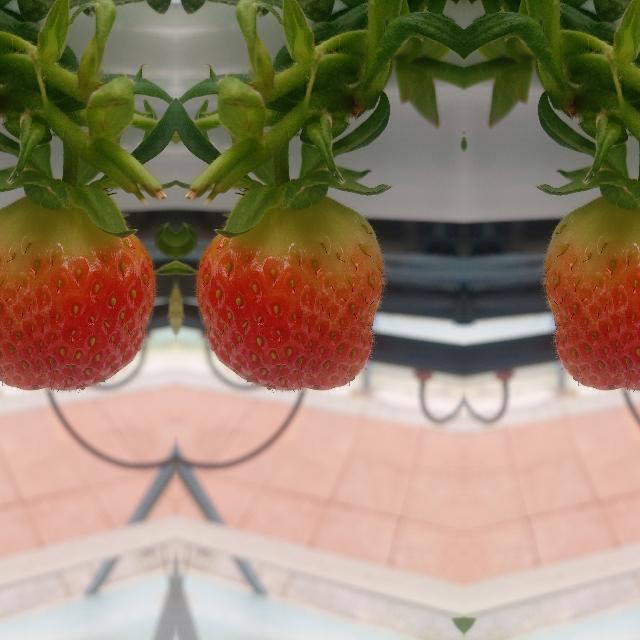Health_100: (196, 196, 382, 390), (0, 196, 154, 390), (544, 196, 640, 390)
